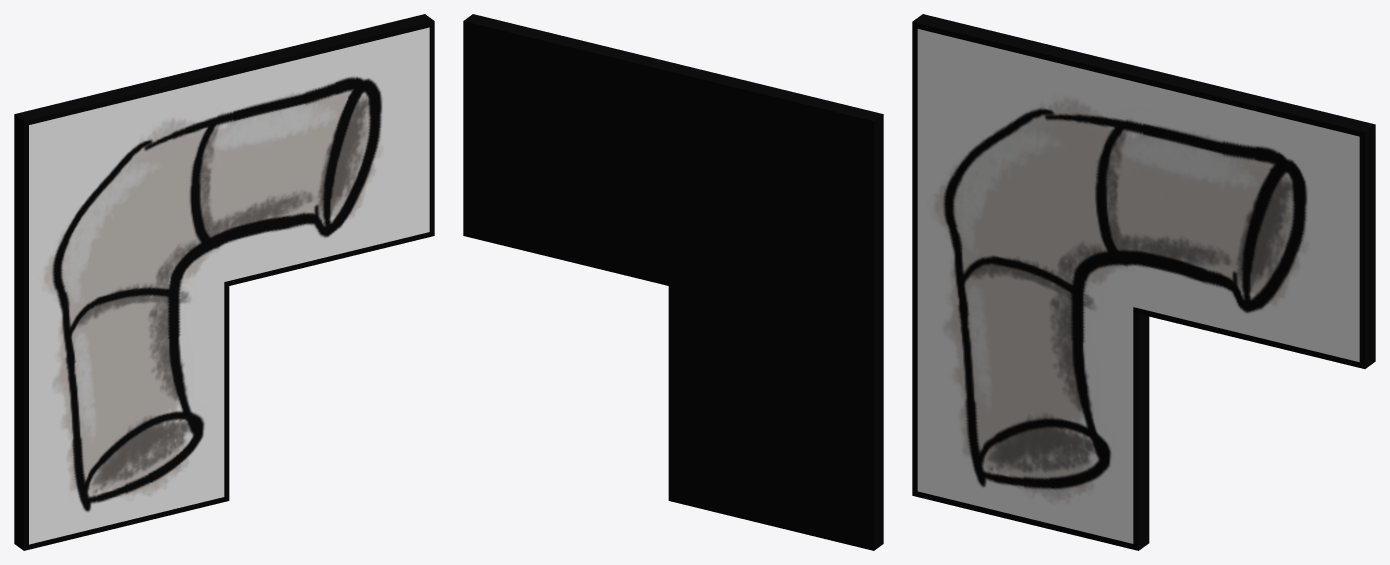
The model's file is mdl_poland_fiat_item5.gltf.
The picture shows the model from 3 angles, left to right: view 1: azimuth 30°, elevation 25°; view 2: azimuth 150°, elevation 25°; view 3: azimuth 330°, elevation 25°; orthographic projection. The views are drawn at different scales.
Parts seen in each view (by area): view 1: Plane.005; view 2: Plane.005; view 3: Plane.005.
Boxes of the visible parts, x1,y1,x2,y2 form: Plane.005: (14, 14, 434, 550); Plane.005: (463, 14, 883, 550); Plane.005: (912, 14, 1375, 550).
Bounding box in the file's own units: 0.8 × 0.8 × 0.0326.
2 materials, 2 textured.
